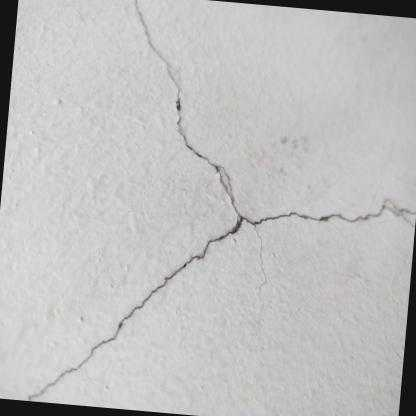crack: (28, 0, 414, 400)
